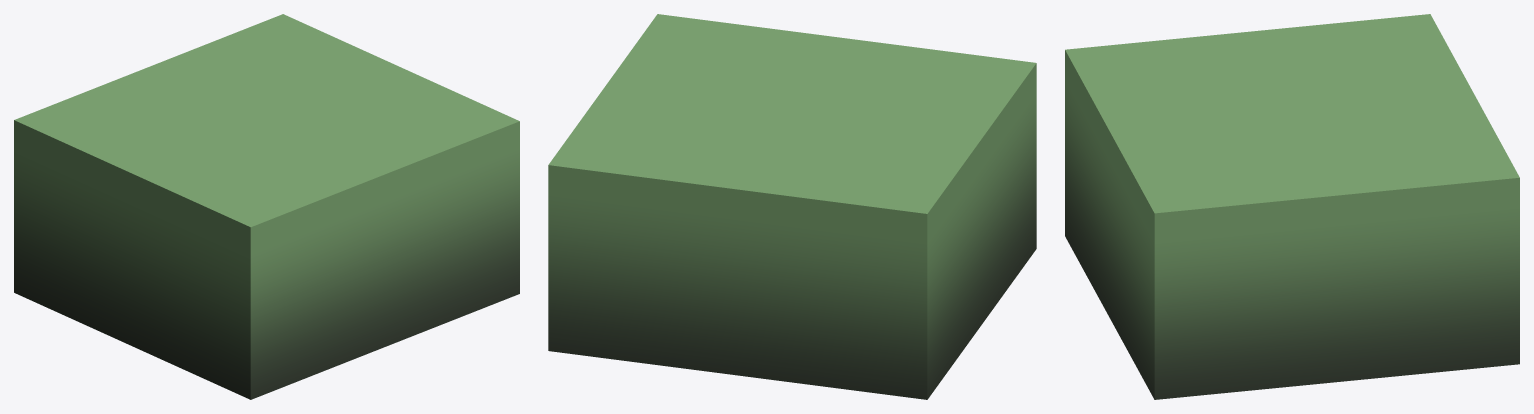
The model's file is Plat01.034.glb.
3 renders of one model, left to right at view 1: azimuth 30°, elevation 25°; view 2: azimuth 150°, elevation 25°; view 3: azimuth 270°, elevation 25°, orthographic. The views are drawn at different scales.
Parts seen in each view (by area): view 1: Plat01.034; view 2: Plat01.034; view 3: Plat01.034.
Boxes of the visible parts, left/top/right/bottom form: Plat01.034: left=14, top=14, right=519, bottom=399; Plat01.034: left=548, top=14, right=1036, bottom=399; Plat01.034: left=1065, top=14, right=1519, bottom=399.
Size of what is drawn, in the model's own units: 3.93 by 1.71 by 3.79.
1 material, 1 textured.
